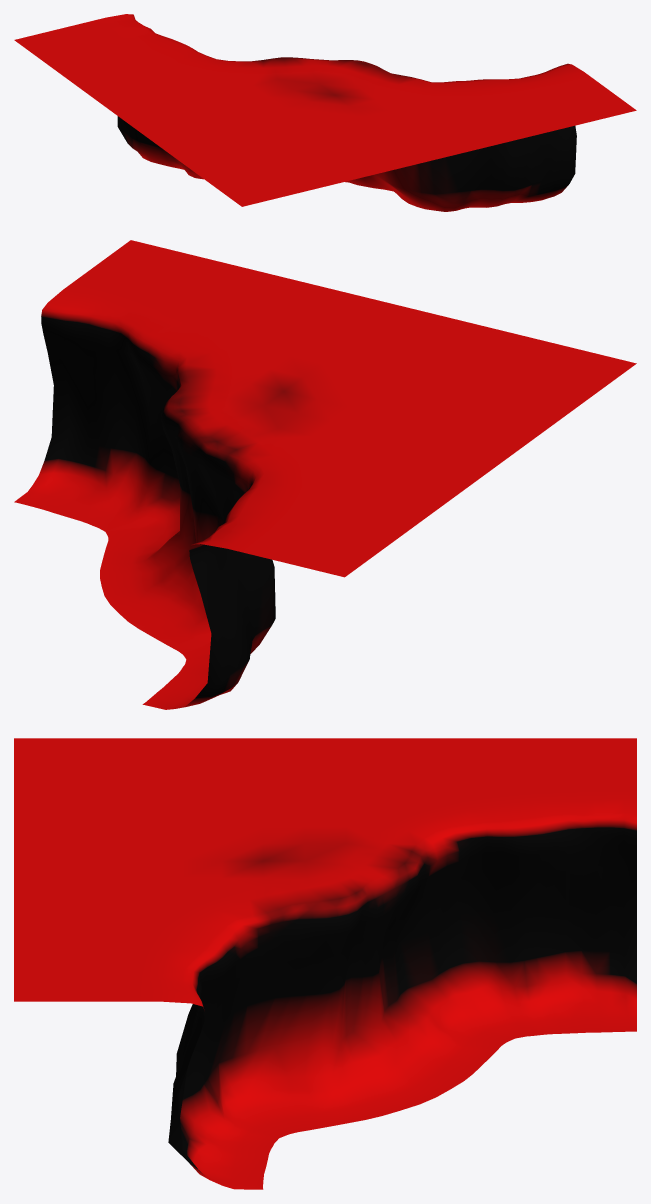
File: GroundCliff04A 1M Foreground.fbx
3 renders of one model, top to bottom at view 1: azimuth 30°, elevation 25°; view 2: azimuth 150°, elevation 25°; view 3: azimuth 270°, elevation 25°, orthographic. The views are drawn at different scales.
Parts seen in each view (by area): view 1: GroundCliff04A 1M Foreground; view 2: GroundCliff04A 1M Foreground; view 3: GroundCliff04A 1M Foreground.
Boxes of the visible parts, x1,y1,x2,y2 form: GroundCliff04A 1M Foreground: (14, 14, 636, 211); GroundCliff04A 1M Foreground: (14, 240, 636, 709); GroundCliff04A 1M Foreground: (14, 738, 636, 1189).
Bounding box in the file's own units: 3 × 1 × 3.
